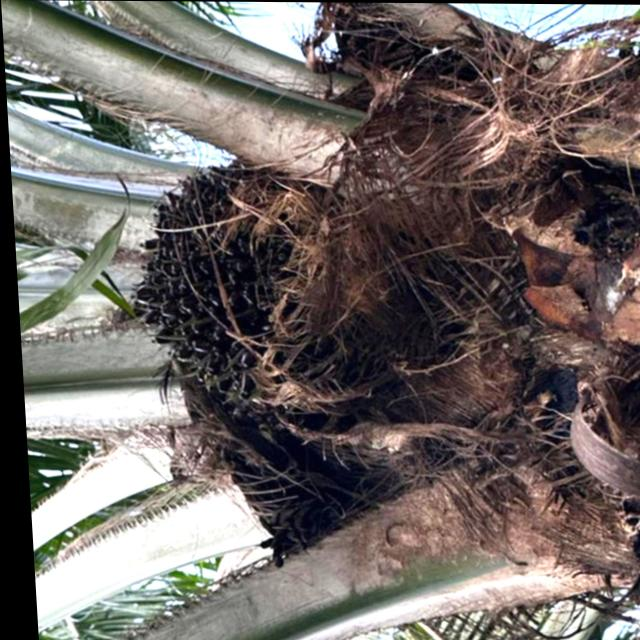almost: (119, 163, 314, 412)
